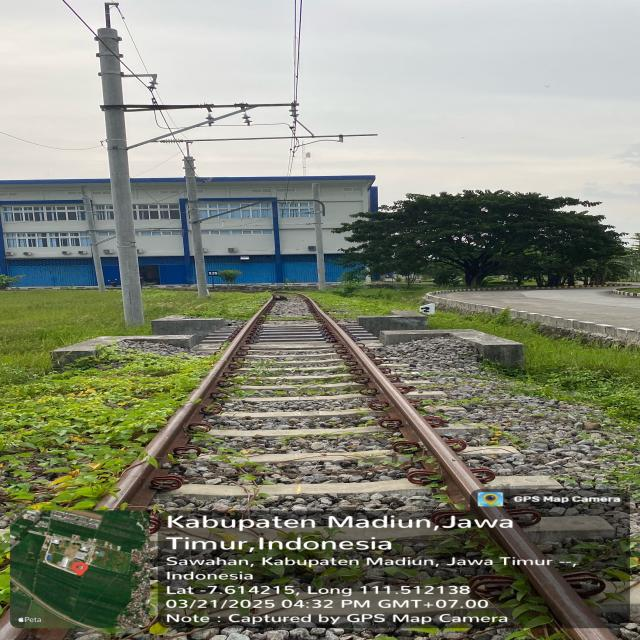rail-detection: (300, 295, 613, 640), (95, 295, 279, 510)
